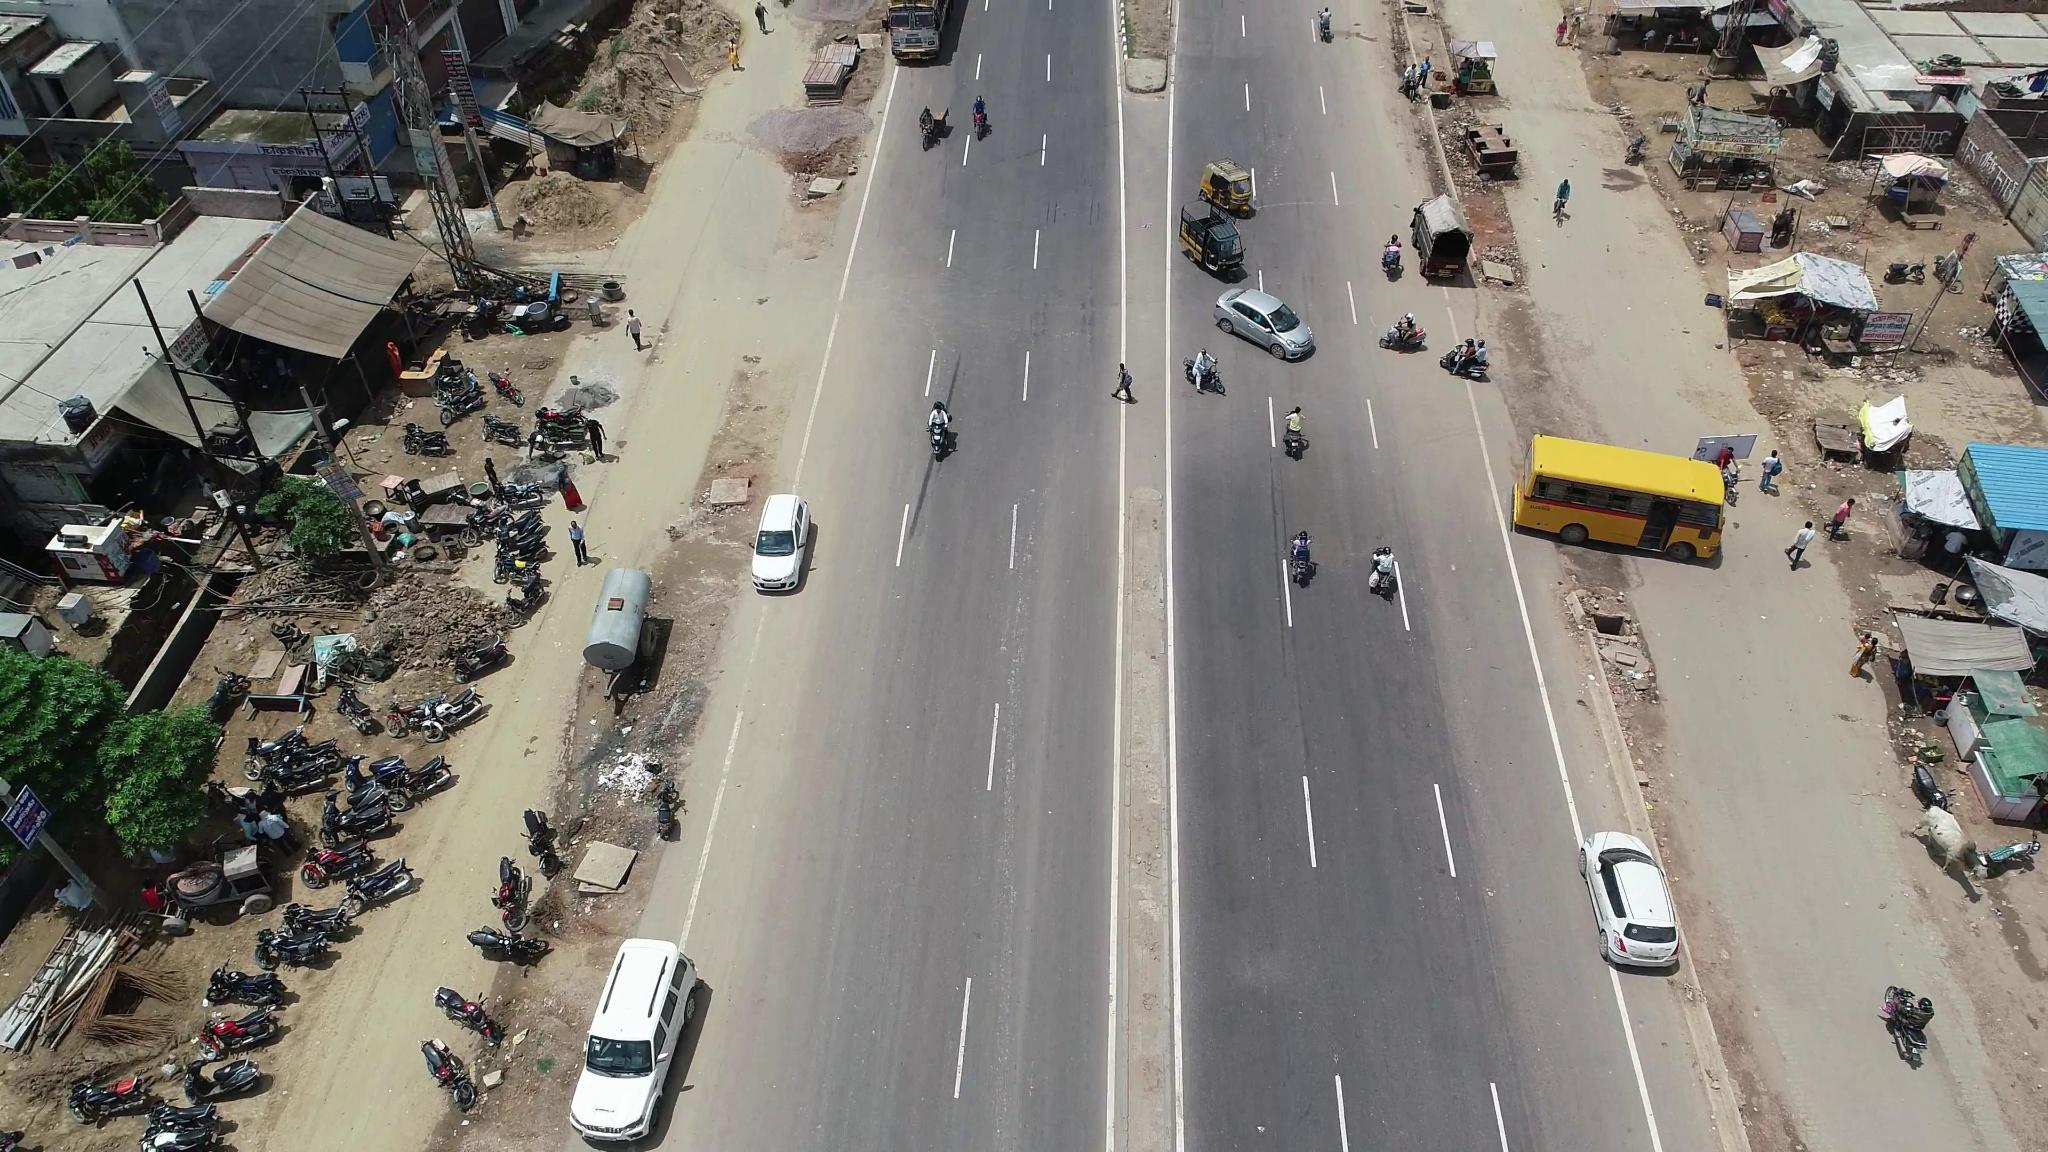Ravelling: (1006, 520, 1045, 776)
